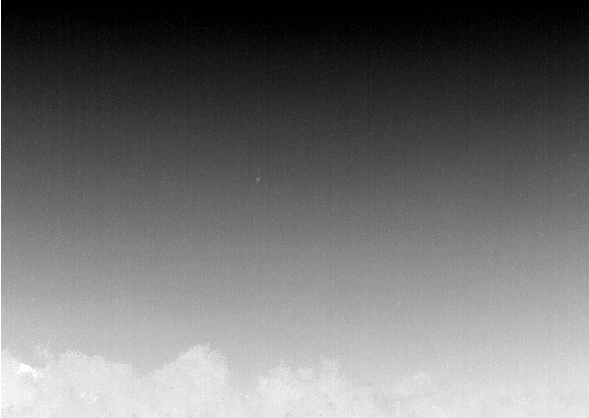dim target: (255, 176, 261, 182)
